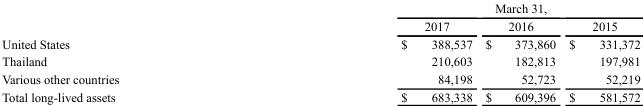table: (1, 0, 639, 103)
table column: (1, 0, 259, 103), (259, 0, 478, 103), (478, 0, 561, 103), (561, 0, 639, 103)
table column header: (1, 0, 639, 34)
table row: (1, 16, 639, 34), (1, 34, 639, 52), (1, 69, 639, 87), (1, 52, 639, 69), (1, 0, 639, 16), (1, 87, 639, 103)
table spanning cell: (259, 0, 639, 16)
